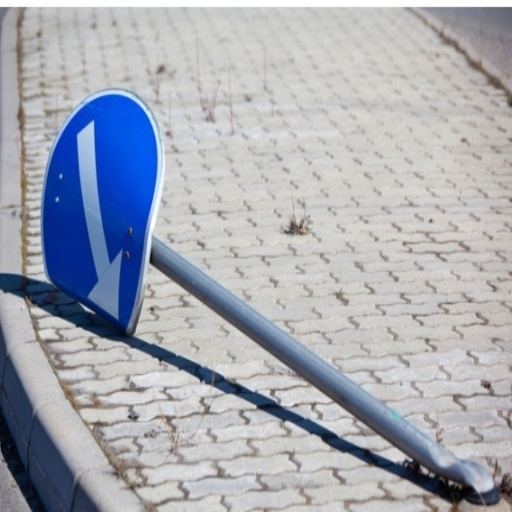Keep right: (34, 85, 161, 349)
